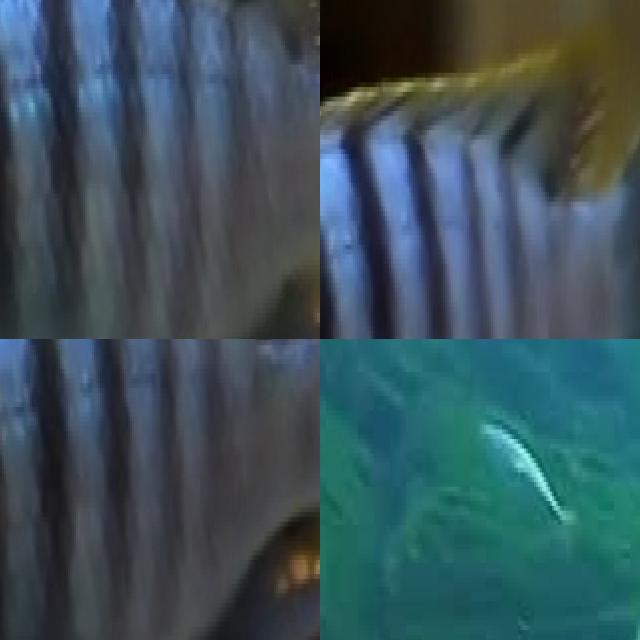fish: (0, 0, 320, 339), (464, 596, 640, 640)
